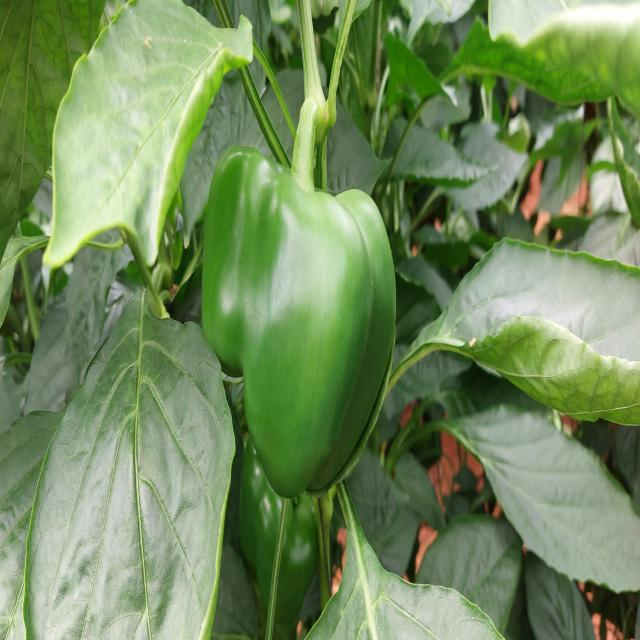Green--Not-ready-to-harvest: (196, 135, 396, 505)
